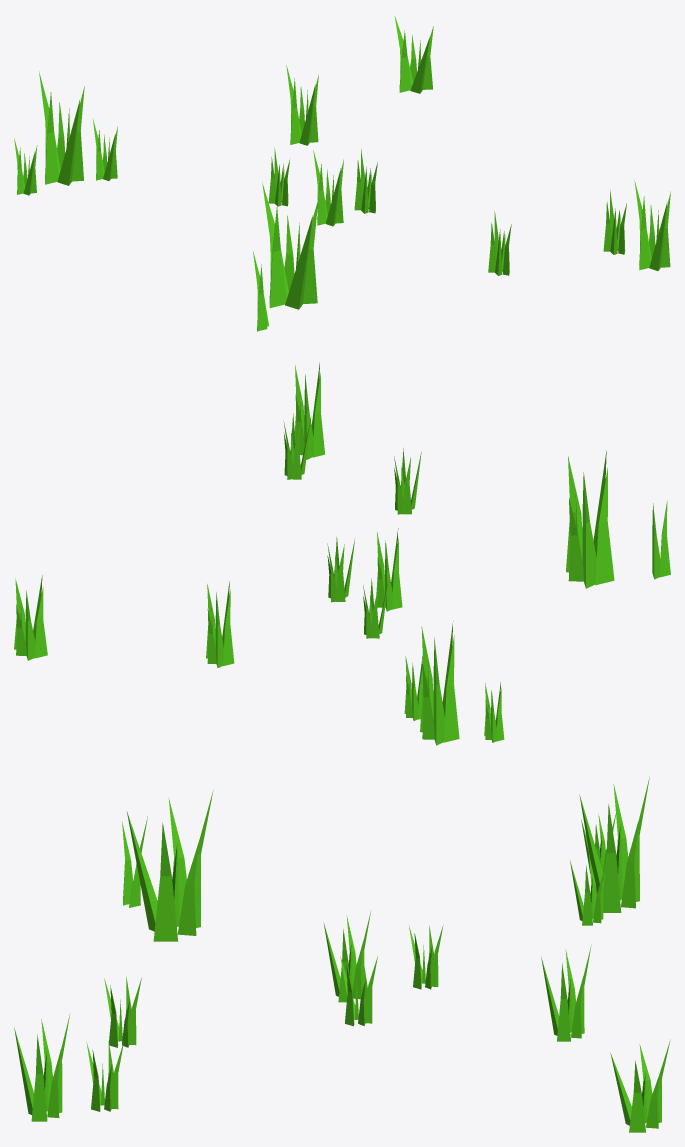
File: Grass_Cluster.fbx
3 views of the same model, one above another, from view 1: azimuth 30°, elevation 25°; view 2: azimuth 150°, elevation 25°; view 3: azimuth 270°, elevation 25° (orthographic). The views are drawn at different scales.
Parts seen in each view (by area): view 1: Grass_Cluster; view 2: Grass_Cluster; view 3: Grass_Cluster.
Boxes of the visible parts, x1,y1,x2,y2 form: Grass_Cluster: (14,16,670,331); Grass_Cluster: (14,362,670,745); Grass_Cluster: (14,776,670,1132).
Bounding box in the file's own units: 853 × 205 × 786.
